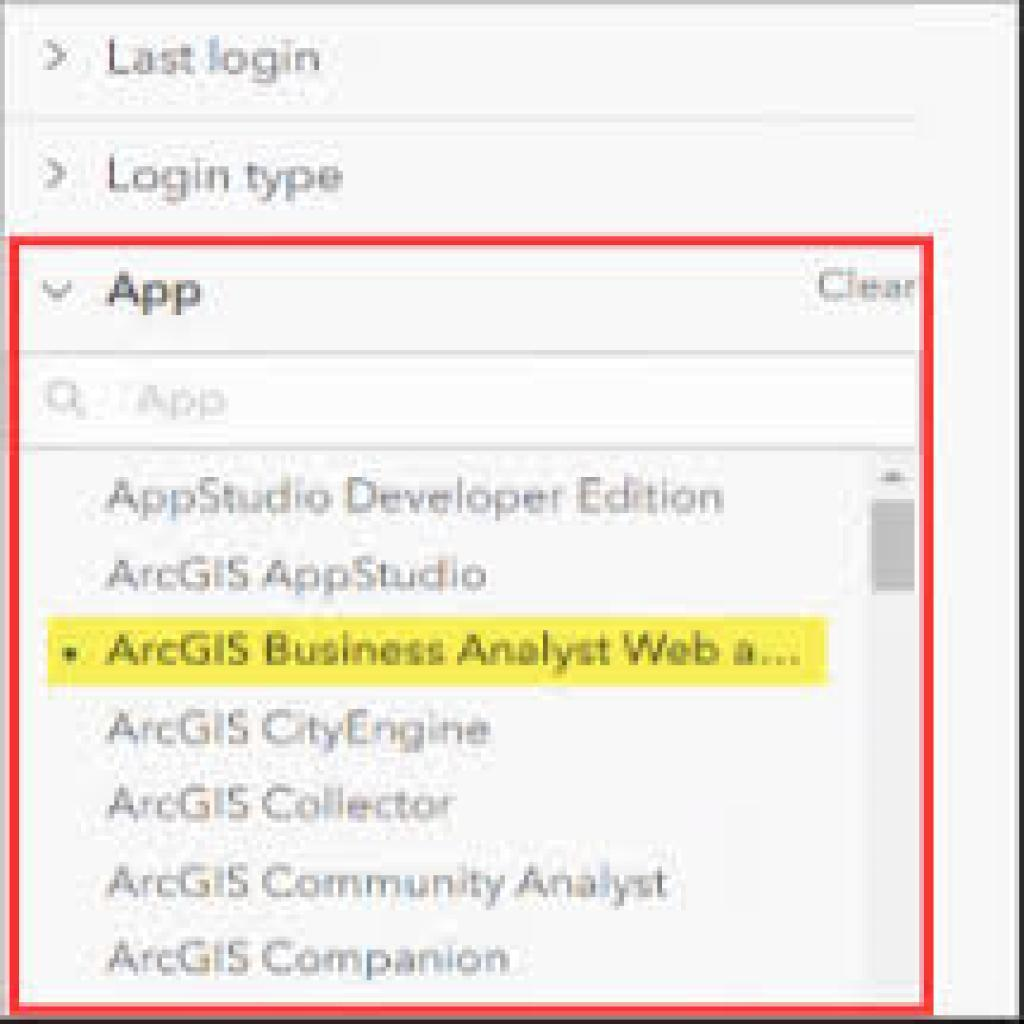dropdown: (16, 245, 922, 353)
icon: (39, 364, 95, 428)
input: (19, 354, 923, 447)
